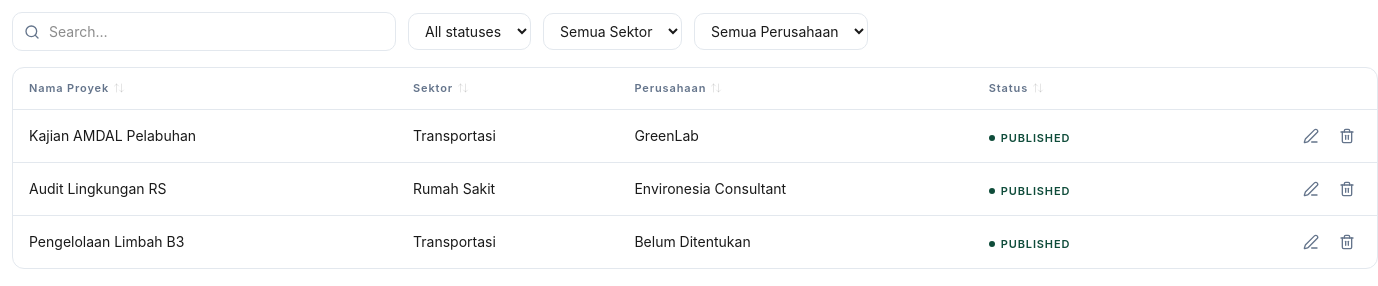
Test: DataTable extra filters (Sektor / Perusahaan style) › combines a Sektor filter and a Perusahaan filter (both must match)
Select "Transportasi" in the 2nd dropdown showing "Semua Sektor" at point(612, 32), box [543, 13, 682, 50]
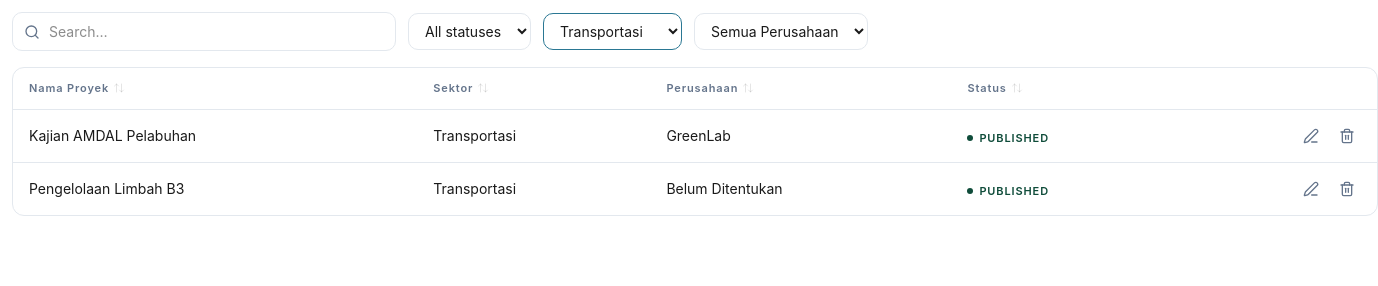
Select "Belum Ditentukan" in the 3rd dropdown showing "Semua Perusahaan" at point(781, 32), box [694, 13, 868, 50]
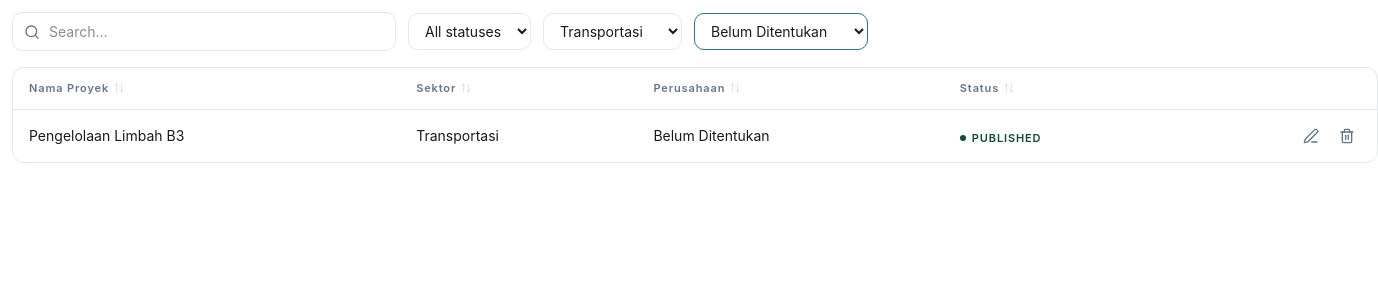
Expected: the text "Pengelolaan Limbah B3" is shown, [13, 109, 400, 162]
Expected: the text "Kajian AMDAL Pelabuhan" is gone
